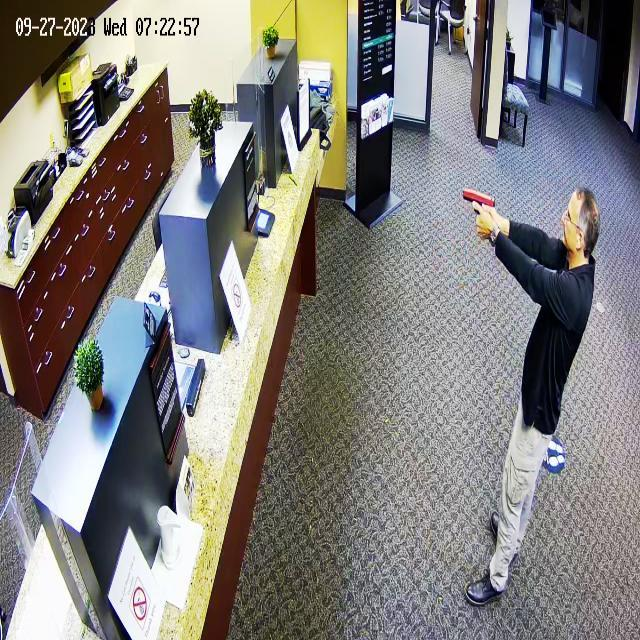Gun: (458, 176, 504, 235)
